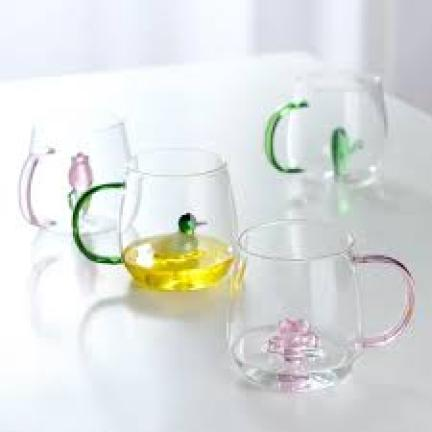container: (227, 219, 362, 394), (120, 146, 237, 289)
fluid: (123, 232, 232, 290)
fluid-surface: (125, 232, 232, 267)
